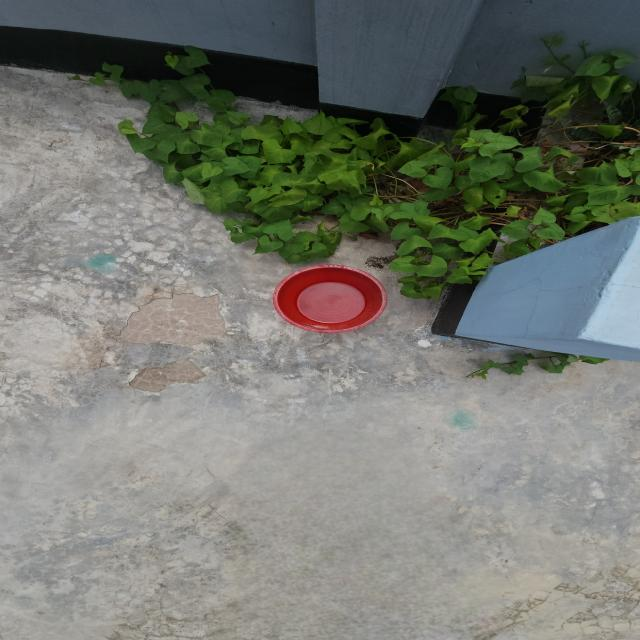Breeding Place: (61, 67, 640, 301), (263, 260, 399, 342)
